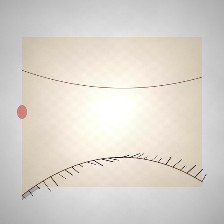hemorrhage_spot: (31, 88, 126, 165)
